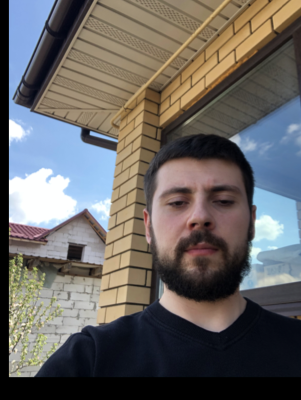without_mask: (153, 177, 248, 301)
